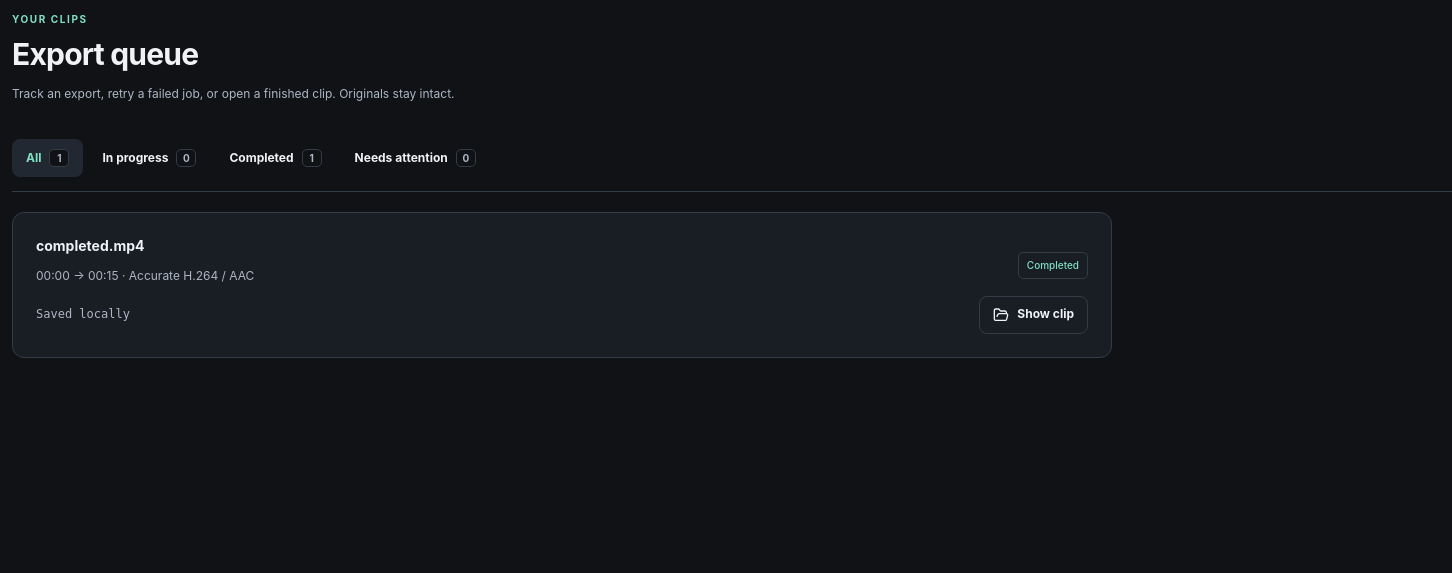
offers an escape from a filter with no matching jobs
This screenshot has width=1452, height=573.
Expected: the heading "completed.mp4" is shown, top-left (36, 237), bottom-right (144, 254)
Click the button with aria-label "Filter exports: In progress" at (150, 158), box top-left (88, 139), bottom-right (210, 177)
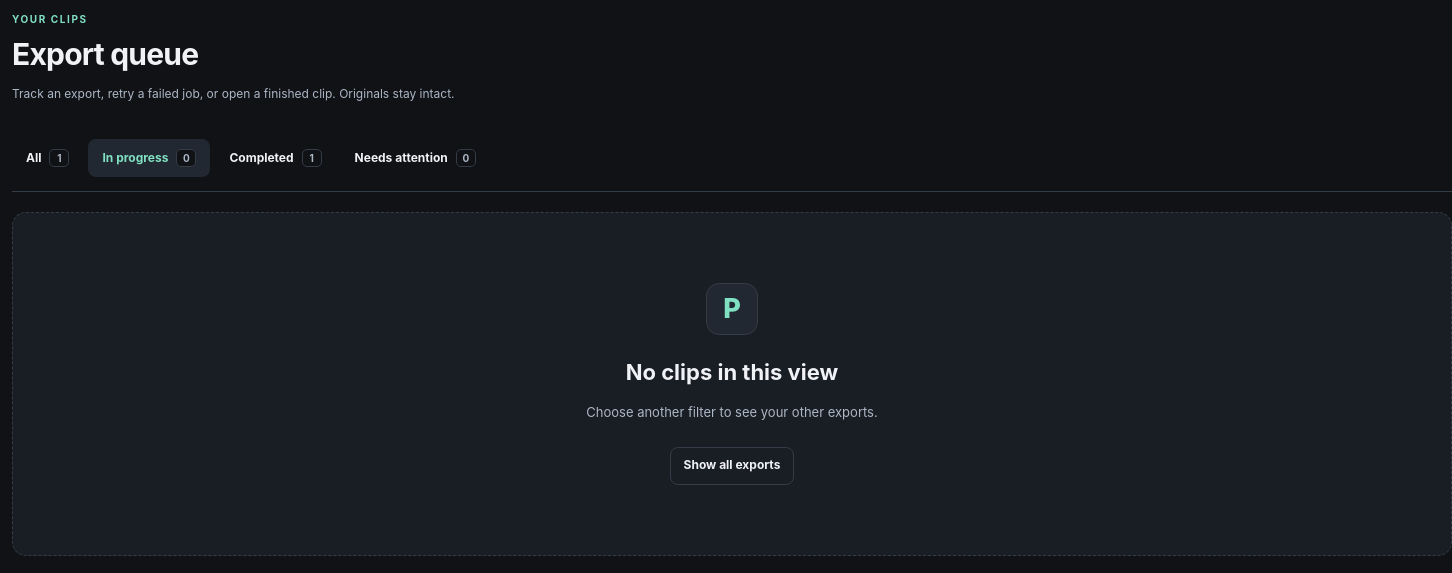
Click the button "Show all exports" at (732, 466), box top-left (670, 446), bottom-right (794, 484)
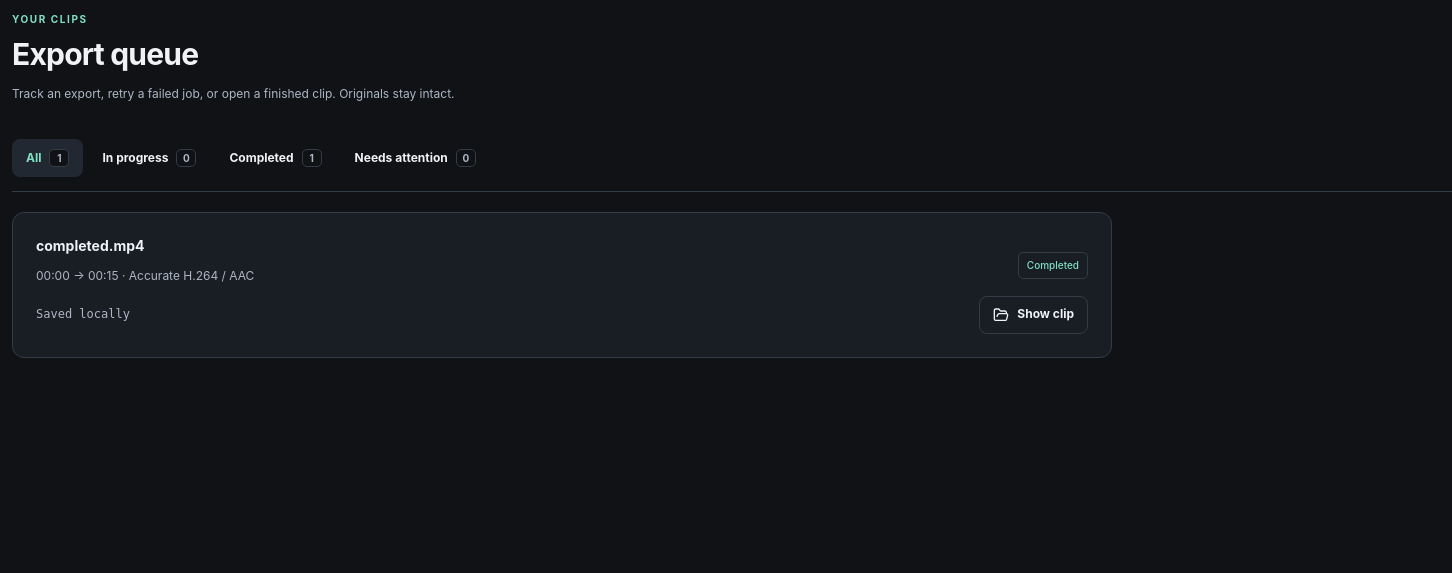
Now the heading "completed.mp4" is shown, box top-left (36, 237), bottom-right (144, 254)
